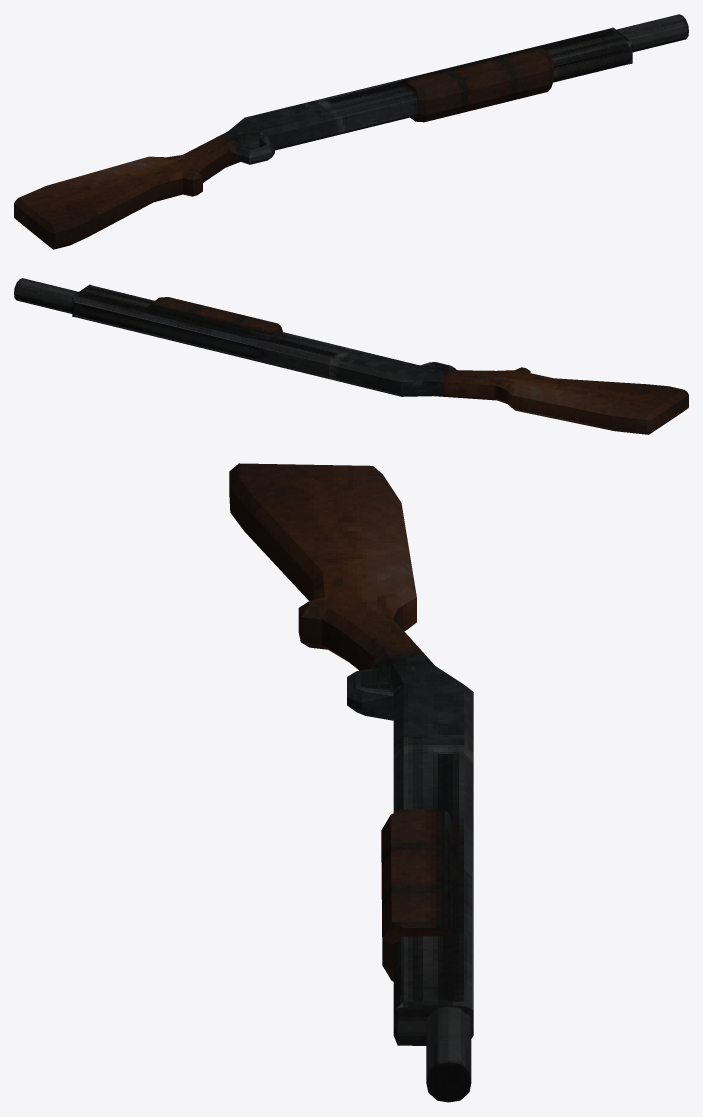
File: shotgun_1.glb
The picture shows the model from 3 angles, top to bottom: view 1: azimuth 30°, elevation 25°; view 2: azimuth 150°, elevation 25°; view 3: azimuth 270°, elevation 25°; orthographic projection. The views are drawn at different scales.
Visible parts, largest first — view 1: shotgun_1; view 2: shotgun_1; view 3: shotgun_1.
Part boxes in pixels (bbox=[...]): shotgun_1: bbox=[14, 14, 688, 249]; shotgun_1: bbox=[14, 278, 688, 434]; shotgun_1: bbox=[229, 463, 473, 1102].
Bounding box in the file's own units: 1.44 × 0.0655 × 0.2462.
1 material, 1 textured.
